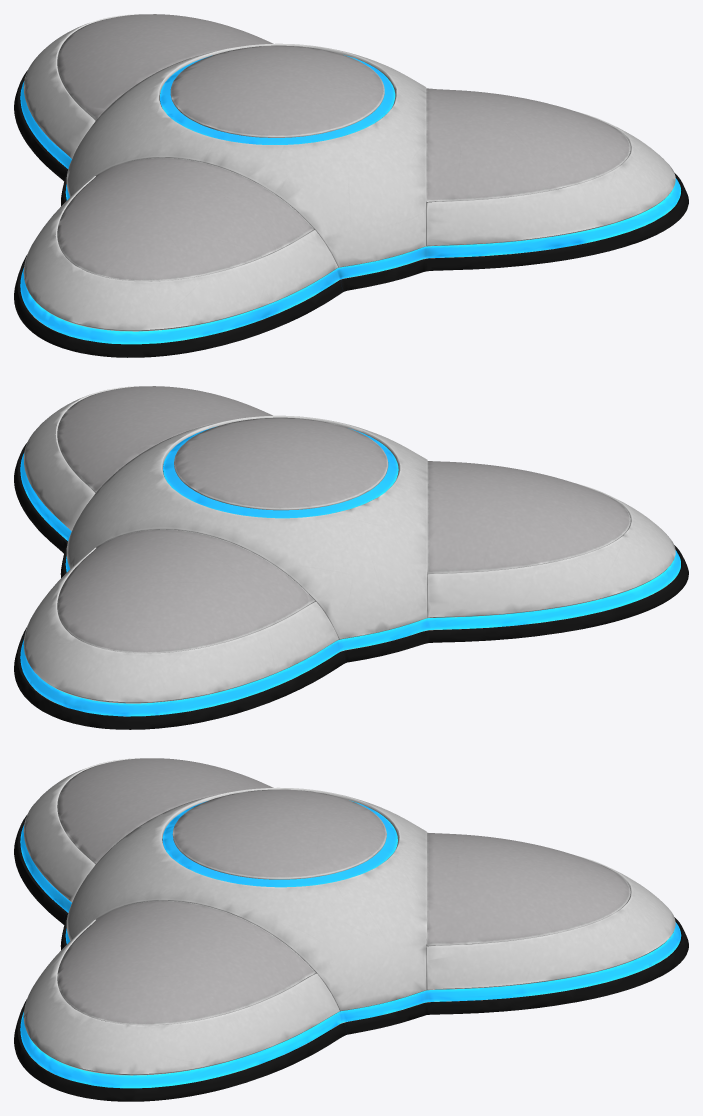
Rendered from scifi_floor_sweeper_drone..glb.
3 renders of one model, top to bottom at view 1: azimuth 30°, elevation 25°; view 2: azimuth 150°, elevation 25°; view 3: azimuth 270°, elevation 25°, orthographic.
Visible parts, largest first — view 1: legPad_low, legPadBase_low, bodyMain_low, top_low, lights_low, grommet_low; view 2: legPad_low, legPadBase_low, bodyMain_low, top_low, lights_low, grommet_low; view 3: legPad_low, legPadBase_low, bodyMain_low, top_low, lights_low, grommet_low.
Boxes of the visible parts, <box> form: legPad_low: <box>57,14,630,281</box>; legPadBase_low: <box>23,14,675,331</box>; bodyMain_low: <box>66,43,426,267</box>; top_low: <box>170,45,384,137</box>; lights_low: <box>20,55,680,344</box>; grommet_low: <box>14,70,688,357</box>; legPad_low: <box>57,386,630,653</box>; legPadBase_low: <box>23,386,675,703</box>; bodyMain_low: <box>66,415,427,639</box>; top_low: <box>174,417,388,510</box>; lights_low: <box>20,426,680,716</box>; grommet_low: <box>14,442,688,729</box>; legPad_low: <box>57,758,630,1025</box>; legPadBase_low: <box>23,758,675,1075</box>; bodyMain_low: <box>66,787,426,1011</box>; top_low: <box>172,789,386,879</box>; lights_low: <box>20,801,681,1088</box>; grommet_low: <box>14,815,688,1101</box>.
Bounding box in the file's own units: 2 × 0.4599 × 1.83.
2 materials, 2 textured.
